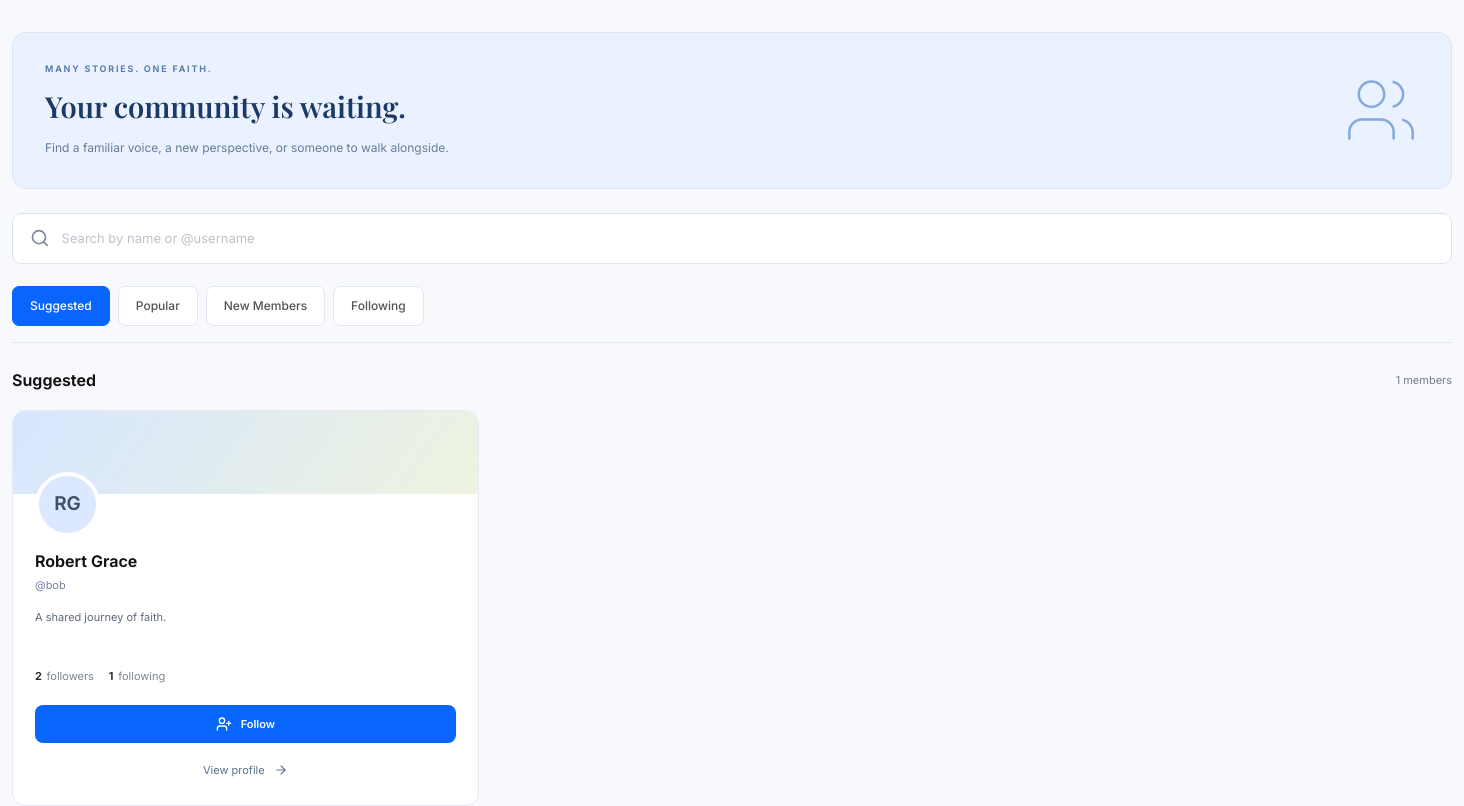
Test: real member directory UI using mocked data transport › reports follow failures without inventing counts or connection state
(page scrolled)
Click the button "Follow": (245, 724) [35,704,456,743]
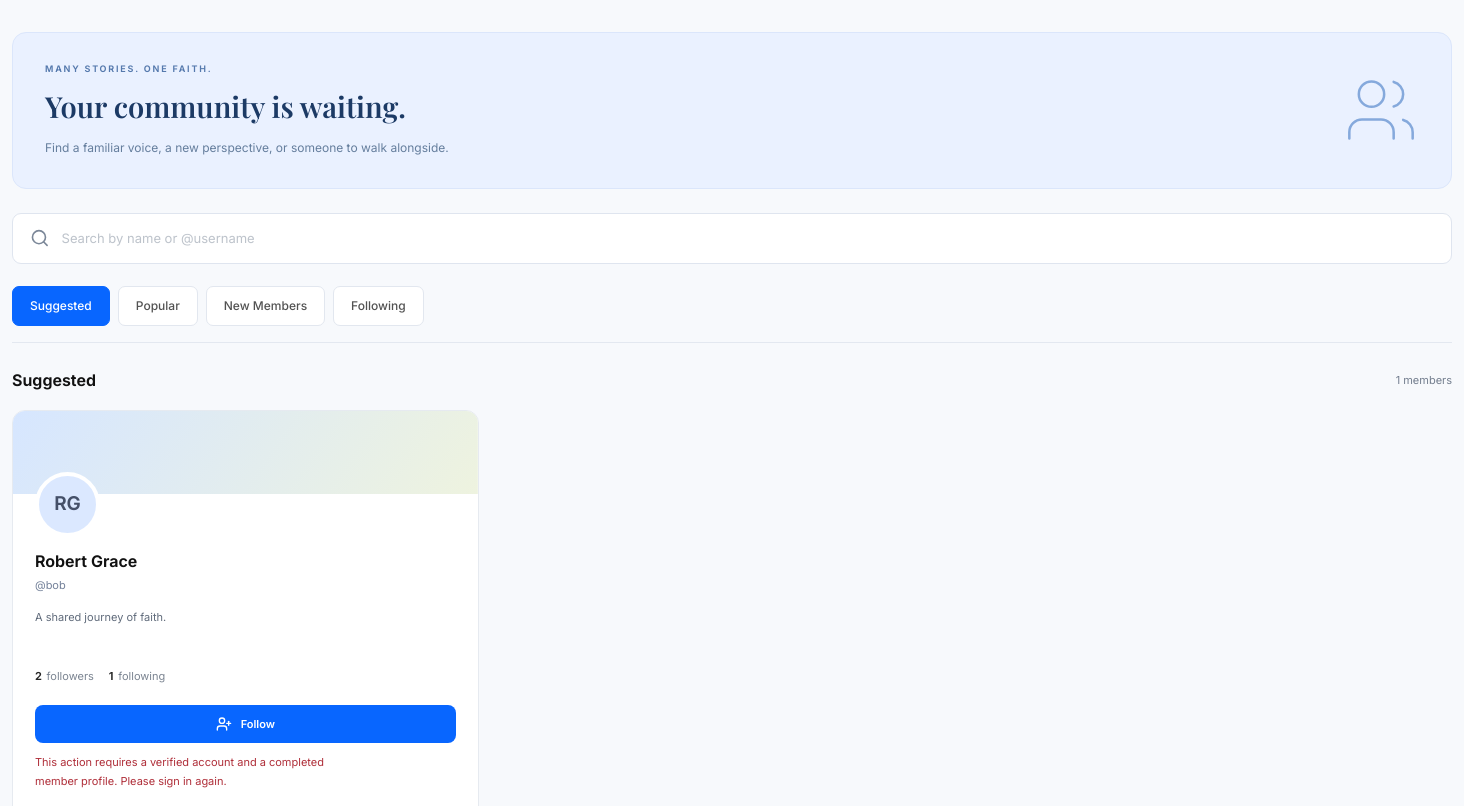
Expected: the message shows "verified account", [35,755,324,788]
